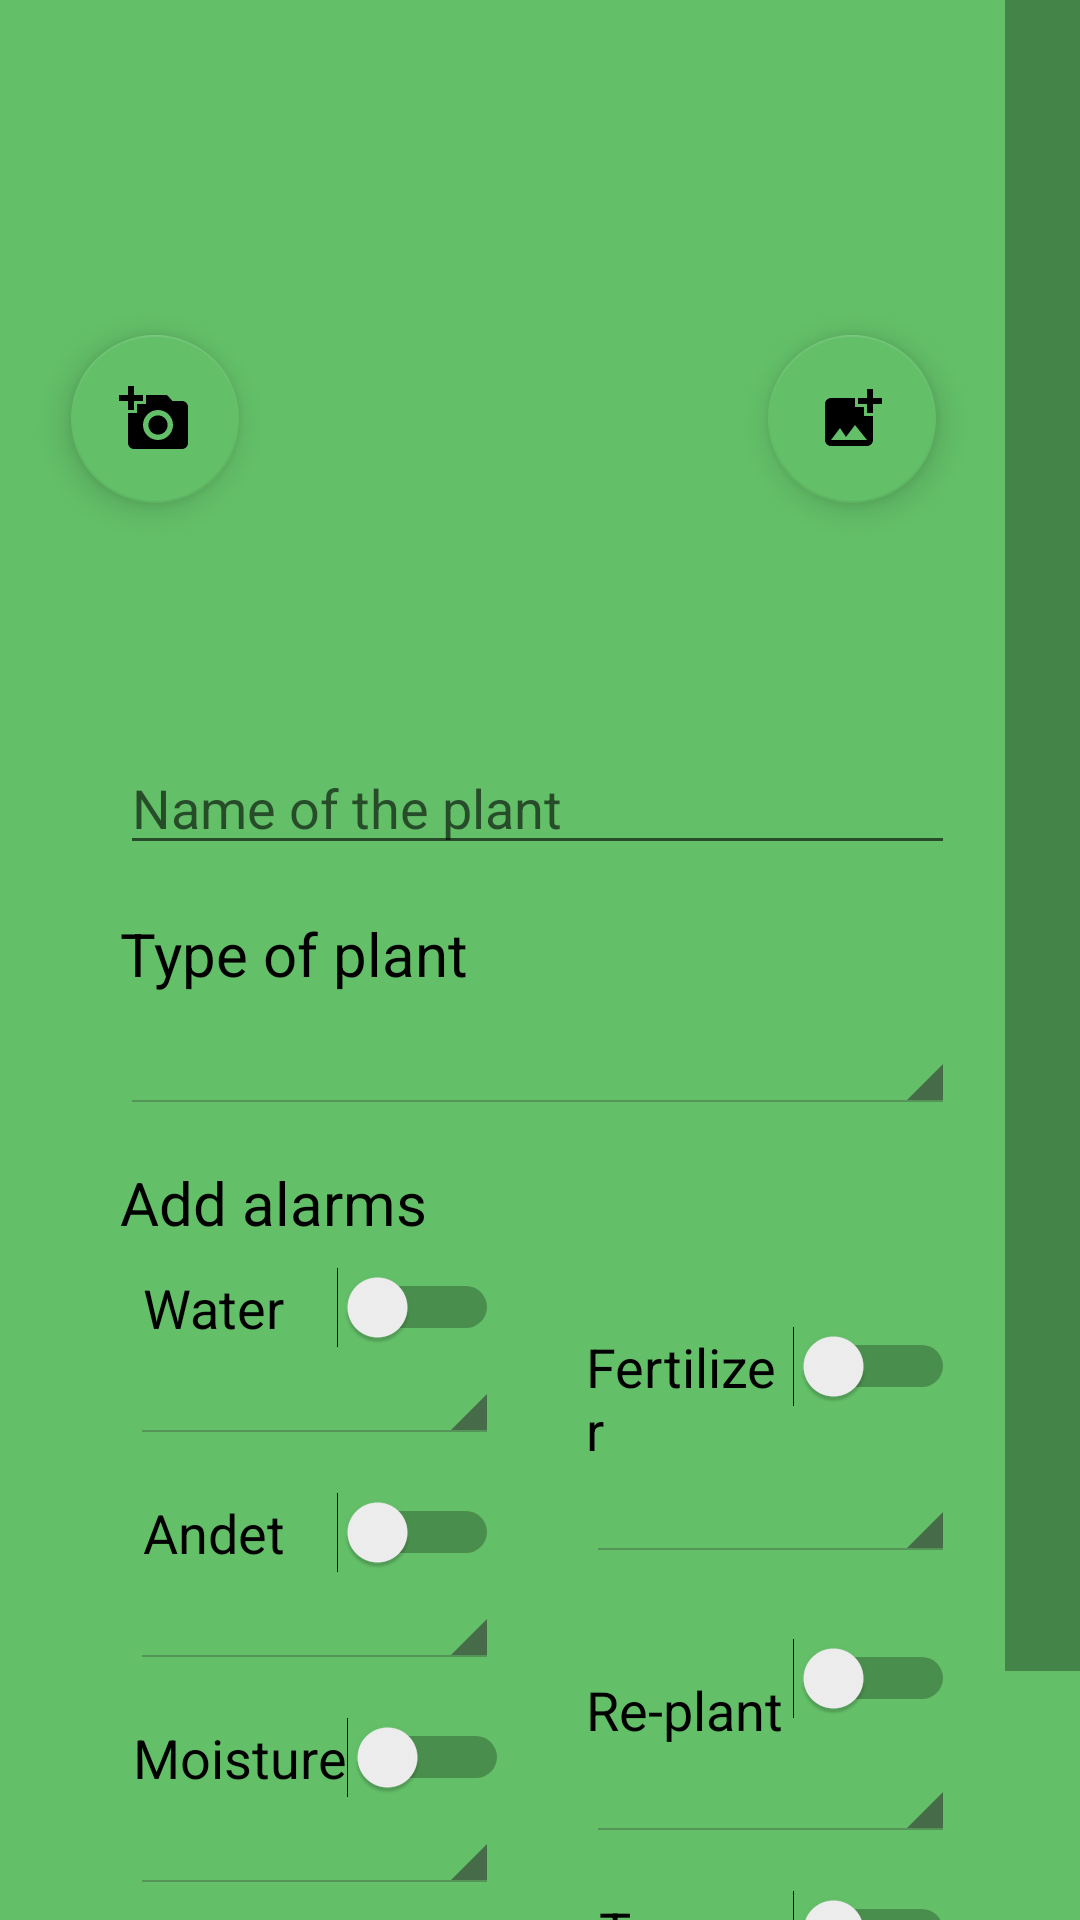

Icon click points for this 1080px x 1920px phone screenshot, format point (x, y):
add photo: point (153, 392)
